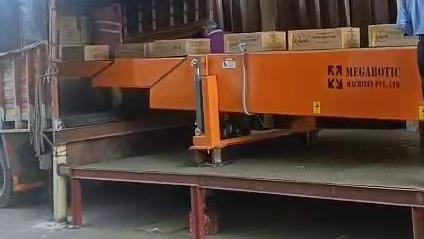box: (288, 27, 360, 50), (224, 31, 286, 52), (368, 24, 417, 46)
